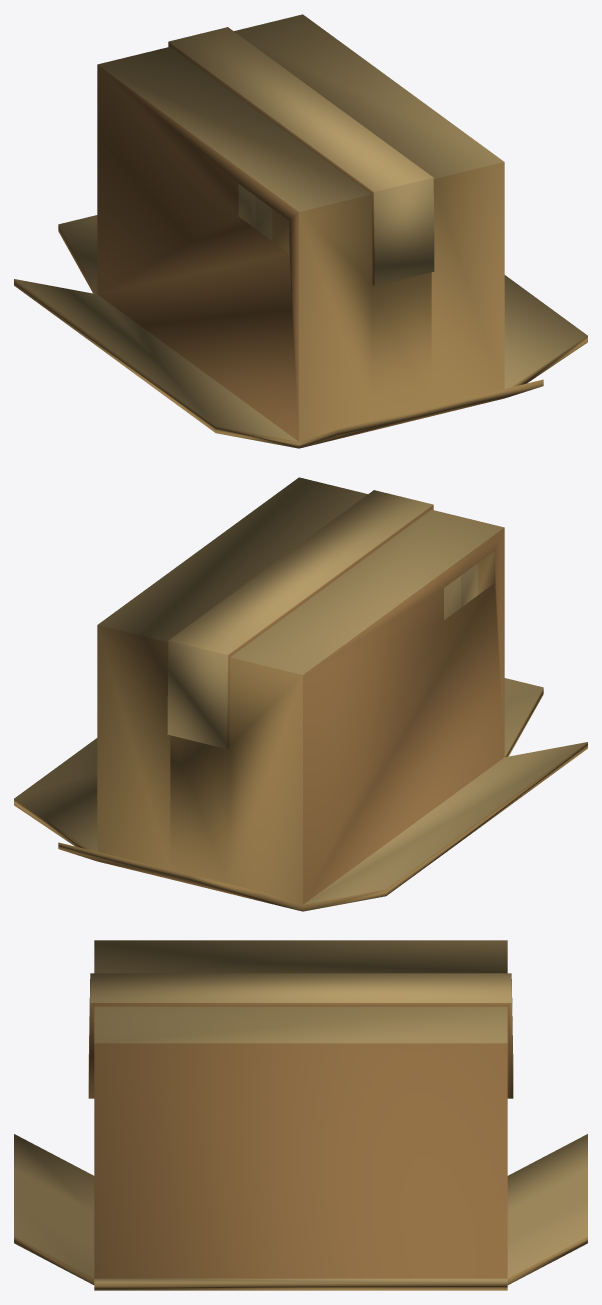
Rendered from KardusKebuka.fbx.
3 renders of one model, top to bottom at view 1: azimuth 30°, elevation 25°; view 2: azimuth 150°, elevation 25°; view 3: azimuth 270°, elevation 25°, orthographic. The views are drawn at different scales.
Visible parts, largest first — view 1: Kardus panda; view 2: Kardus panda; view 3: Kardus panda.
Boxes of the visible parts, x1,y1,x2,y2 form: Kardus panda: (14,14,587,448); Kardus panda: (14,477,587,911); Kardus panda: (14,940,587,1290).
Bounding box in the file's own units: 181 × 112 × 236.
